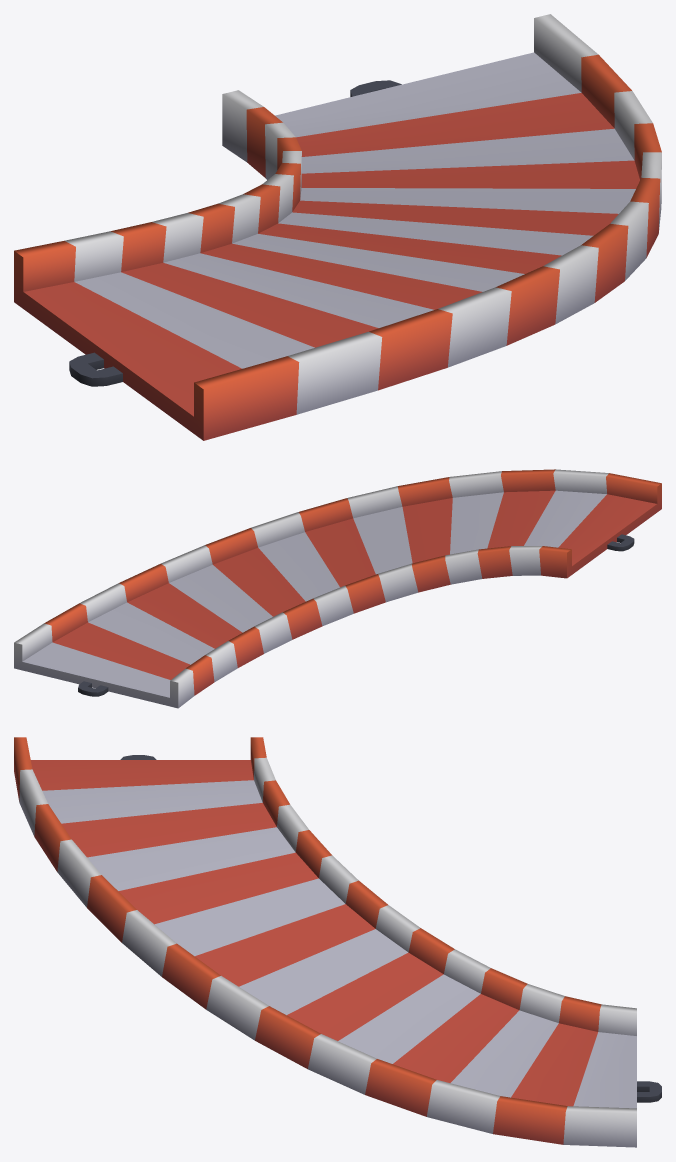
File: track-striped-wide-corner-large-ramp.glb
The picture shows the model from 3 angles, top to bottom: view 1: azimuth 30°, elevation 25°; view 2: azimuth 150°, elevation 25°; view 3: azimuth 270°, elevation 25°; orthographic projection. The views are drawn at different scales.
Parts seen in each view (by area): view 1: track-striped-wide-corner-large-ramp; view 2: track-striped-wide-corner-large-ramp; view 3: track-striped-wide-corner-large-ramp.
Boxes of the visible parts, bbox=[...] form: track-striped-wide-corner-large-ramp: bbox=[14, 14, 661, 440]; track-striped-wide-corner-large-ramp: bbox=[14, 469, 661, 708]; track-striped-wide-corner-large-ramp: bbox=[14, 737, 661, 1147].
Bounding box in the file's own units: 5.2 × 1.3 × 5.2.
